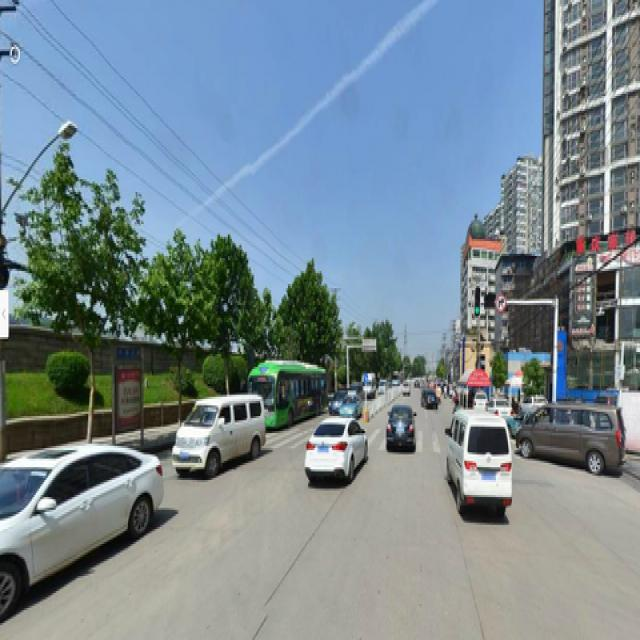meta: (41, 177, 131, 427), (150, 226, 206, 450)
